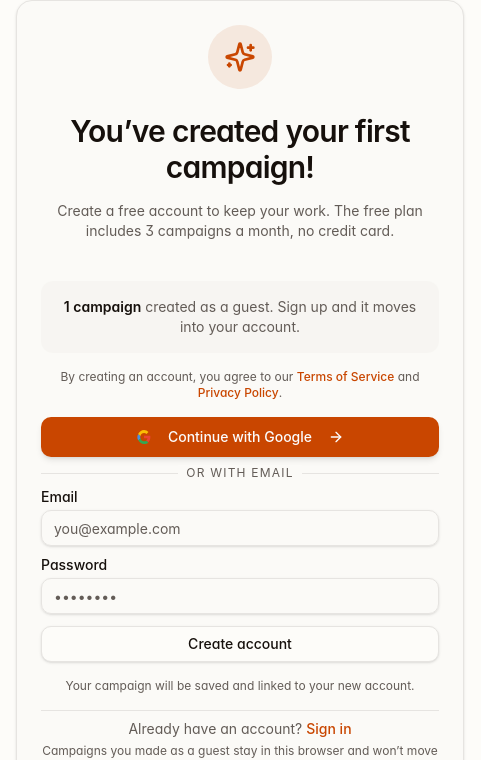
Test: <UpgradePrompt /> — email upgrade path › shows the confirmation-pending message when the user remains anonymous after updateUser
Type "newuser@example.com" into the field labelled "Email". click: point(240, 528)
box: [41,510,439,546]
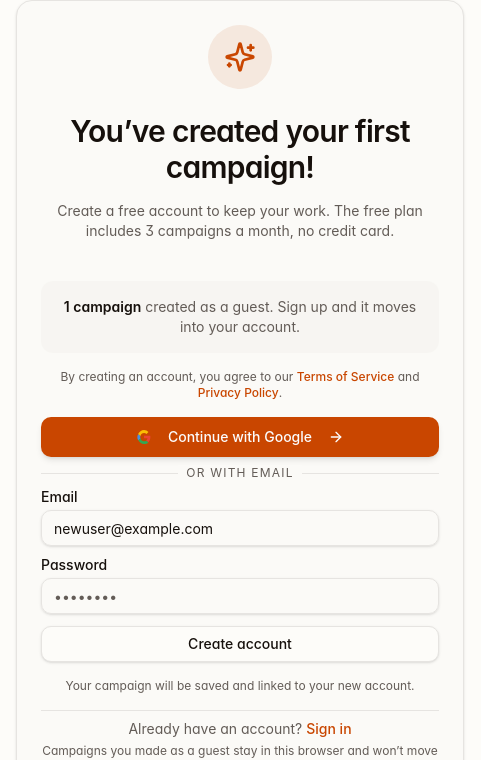
Type "hunter2!" into the password field labelled "Password". click: point(240, 596)
box: [41,578,439,614]
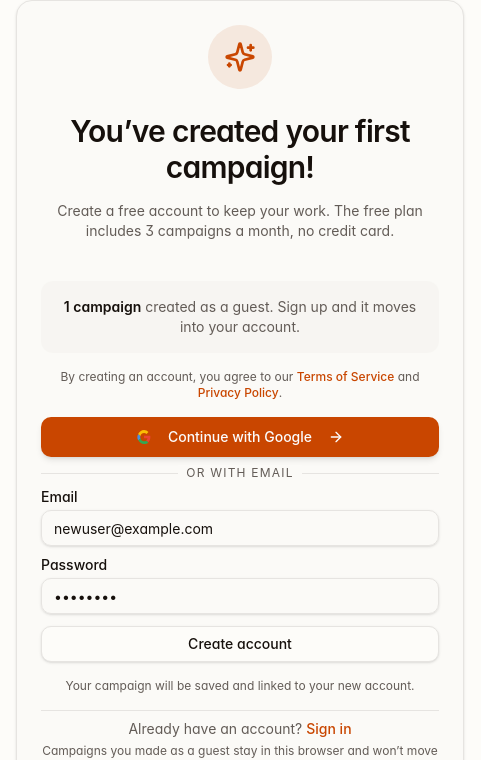
Click the button "Create account". click: point(240, 644)
box: [41,626,439,662]
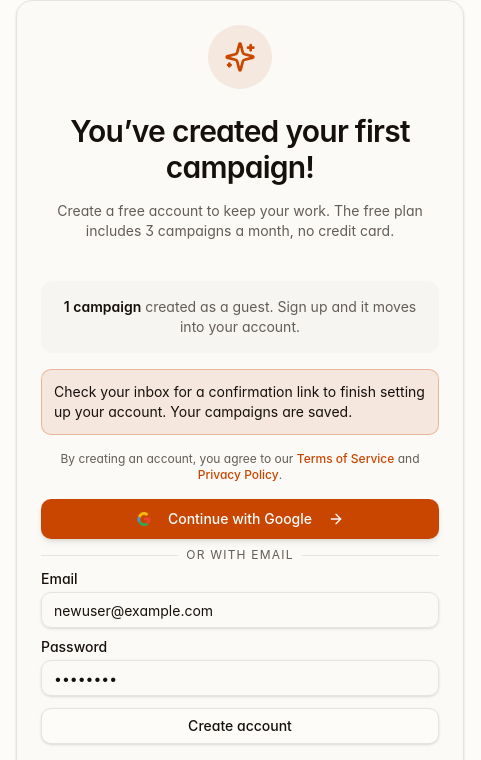
Expected: the text "Check your inbox" is shown, [54,383,425,420]
